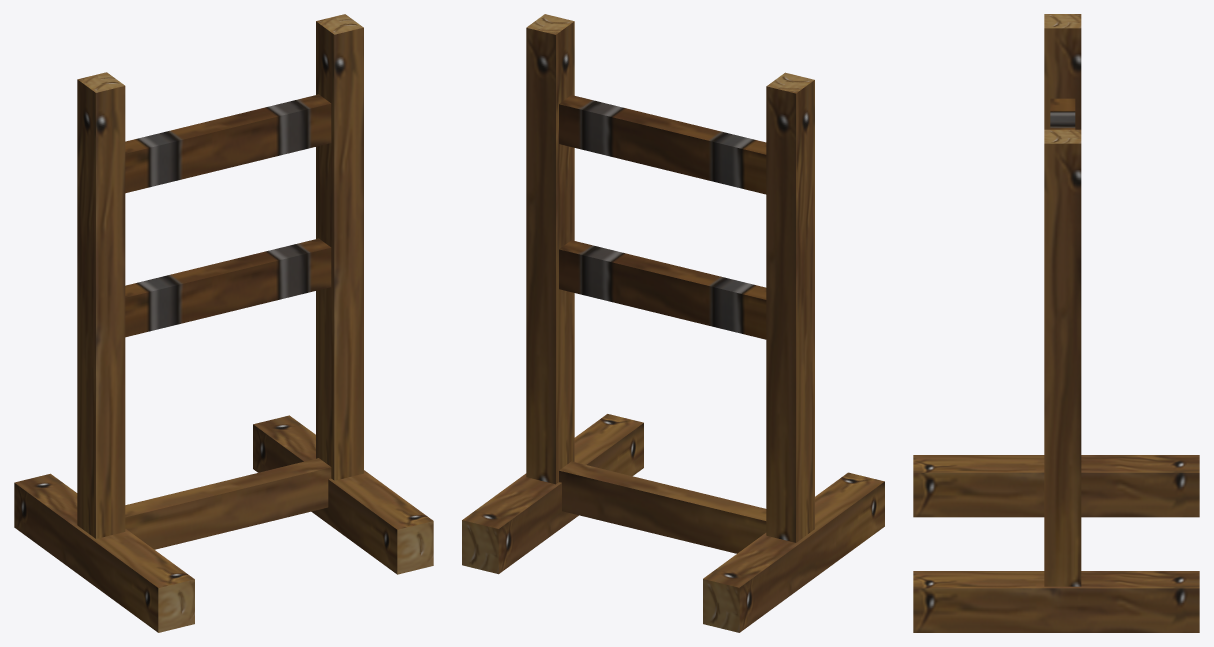
Rendered from WeaponsStand.fbx.
3 views of the same model, side by side, from view 1: azimuth 30°, elevation 25°; view 2: azimuth 150°, elevation 25°; view 3: azimuth 270°, elevation 25° (orthographic).
Visible parts, largest first — view 1: WeaponsStand; view 2: WeaponsStand; view 3: WeaponsStand.
Boxes of the visible parts, <box> form: WeaponsStand: <box>14,14,433,632</box>; WeaponsStand: <box>462,14,884,632</box>; WeaponsStand: <box>913,14,1199,632</box>.
Bounding box in the file's own units: 3.24 × 5.52 × 2.94.
